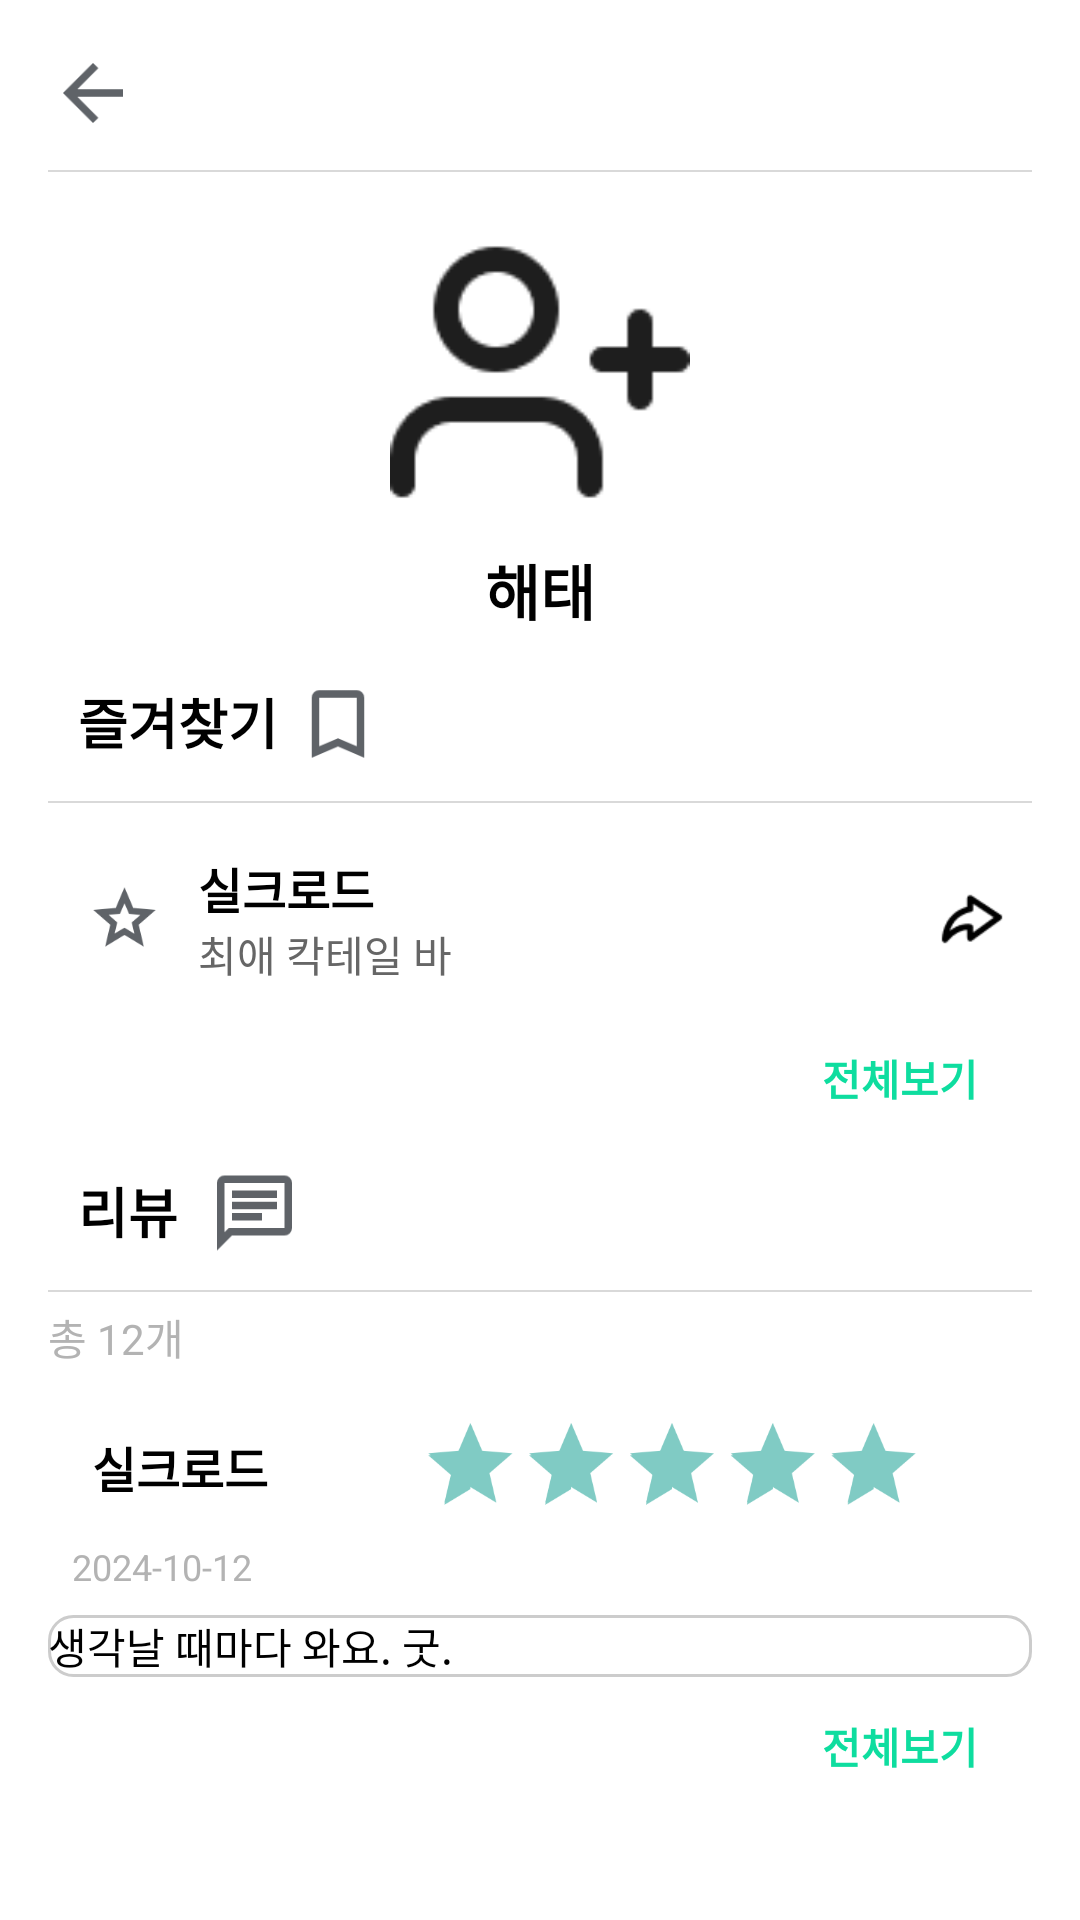

Screen size 1080 x 1920. Icon name, then its box in pixels as detection(x1, y1, x2, y2):
bookmark: detection(311, 690, 365, 758)
chat: detection(217, 1175, 292, 1251)
star: detection(93, 887, 156, 947)
공유: detection(941, 894, 1003, 944)
뒤로가기: detection(63, 63, 123, 123)
프로필 이미지: detection(390, 246, 690, 498)
